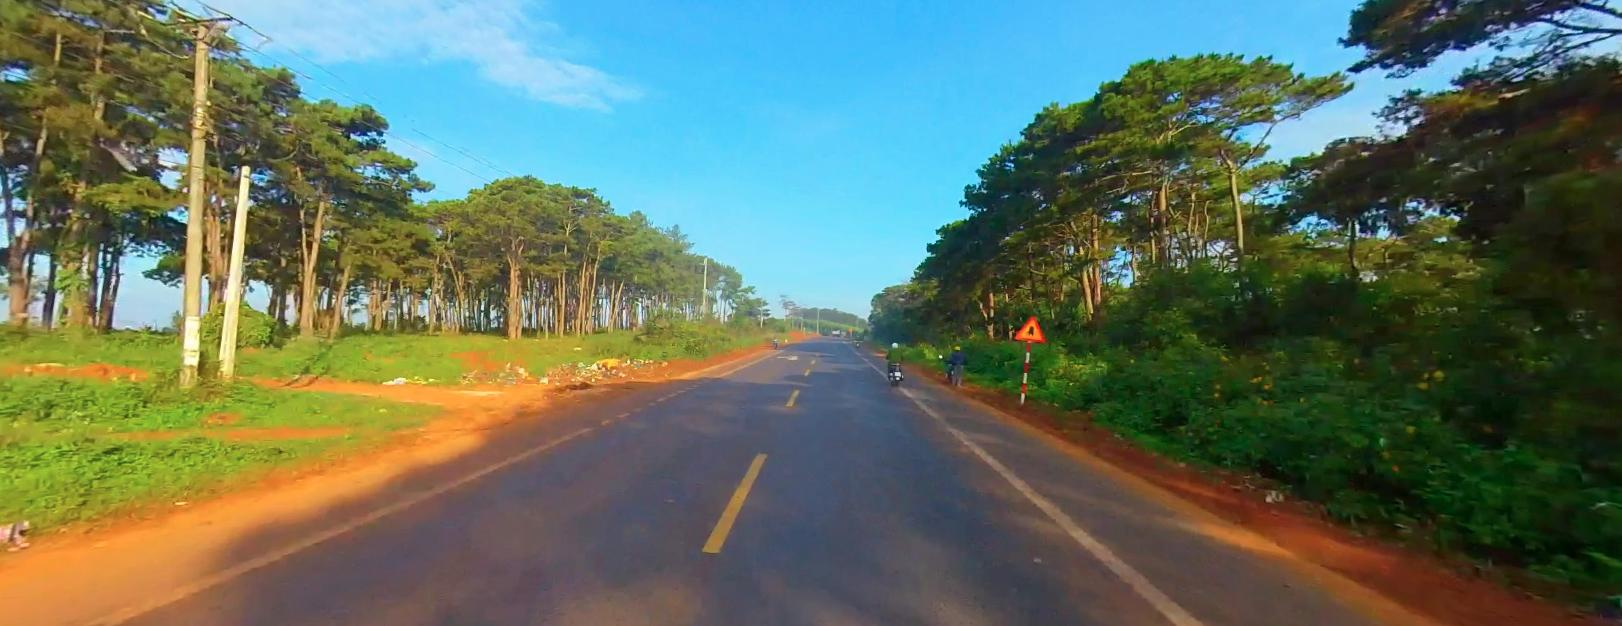Nguy hiem: (1012, 311, 1045, 342)
